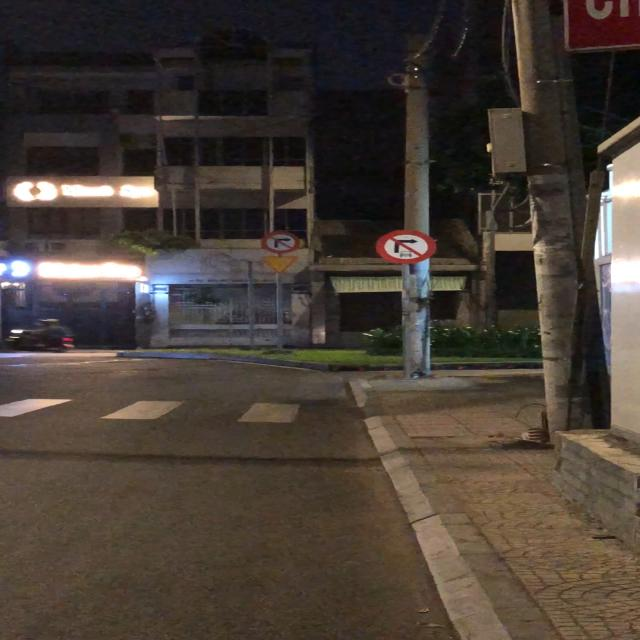Bien bao cam re phai: (259, 231, 300, 253)
Bien bao cam xe o to re phai: (374, 229, 436, 266)
Bien bao giao nhau voi duong uu tien: (260, 255, 304, 276)
